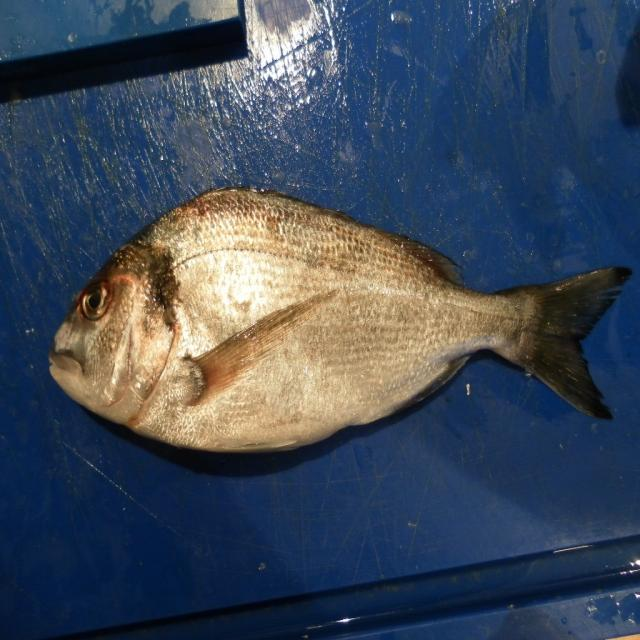Gilt-Head-Bream-c-ipura-: (49, 188, 632, 456)
